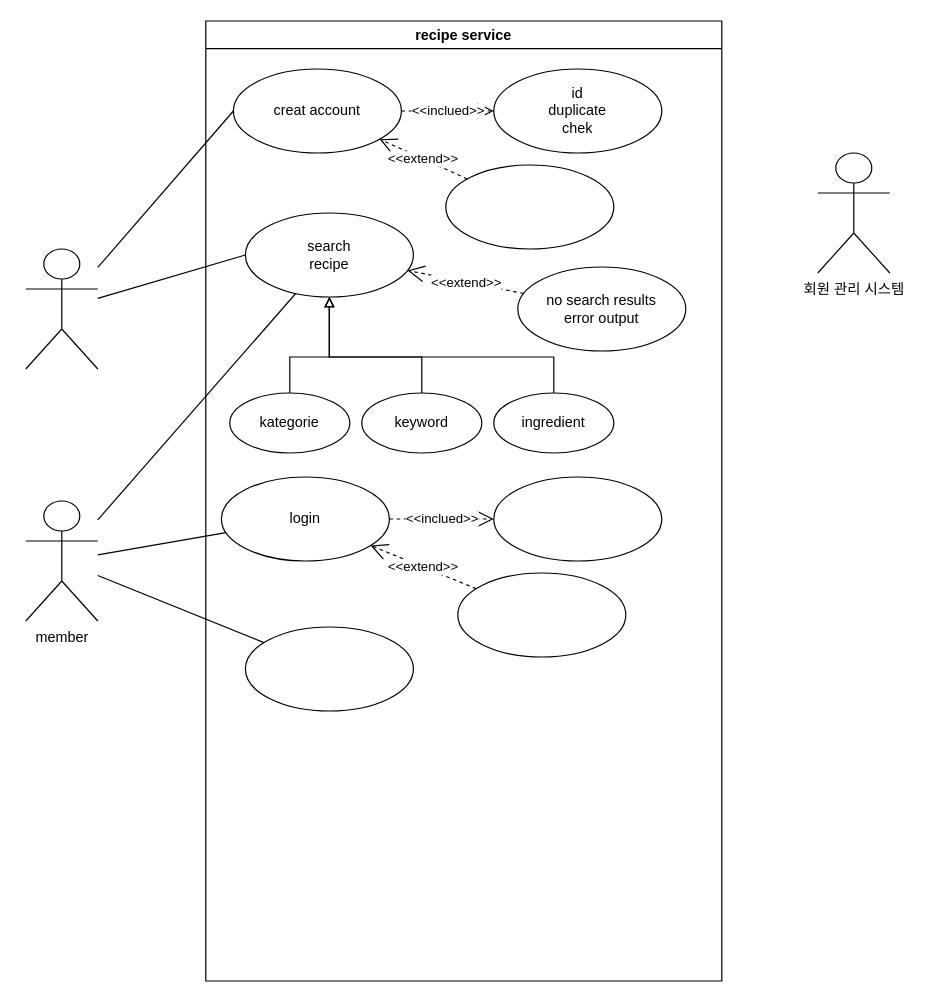
Image size: 925x1002. Some labels were removed from this diagram. The box of each missing label's shape, as (x1, y1, x2, y2) in pixels:
add like & favorite: (244, 626, 413, 711)
check id & password: (493, 476, 662, 561)
id & password error output: (457, 572, 626, 657)
non-member: (25, 248, 98, 369)
redundant error output: (445, 164, 614, 249)
